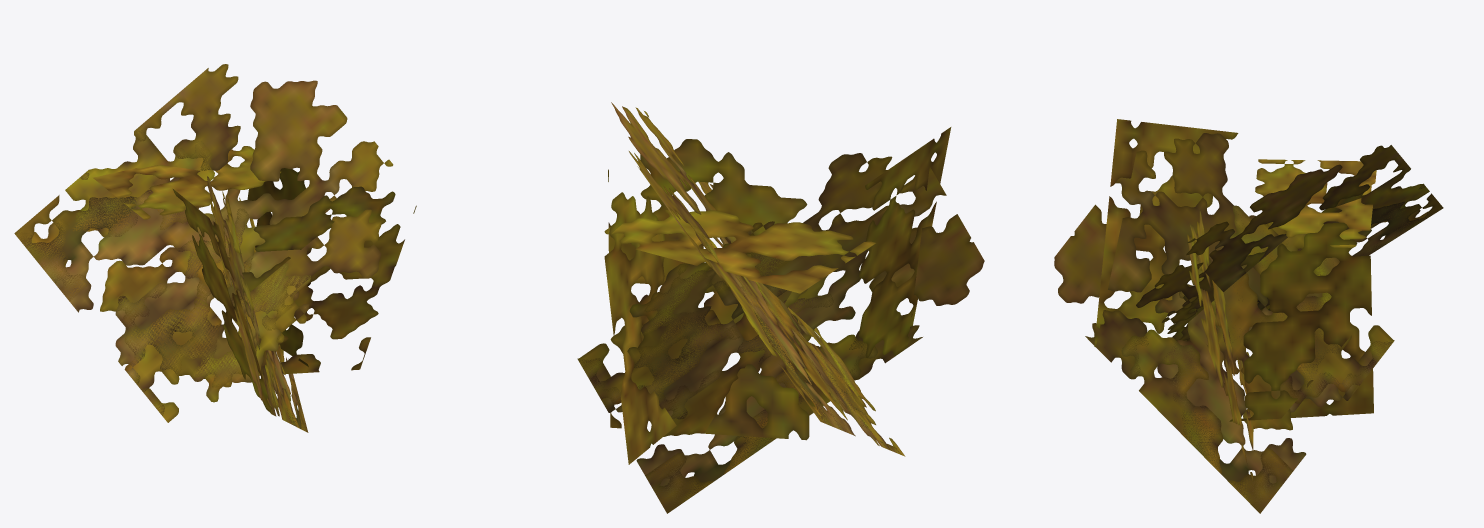
Rendered from maple_leaves_yellowish_vertical_slab_3.obj.
3 views of the same model, side by side, from view 1: azimuth 30°, elevation 25°; view 2: azimuth 150°, elevation 25°; view 3: azimuth 270°, elevation 25° (orthographic). The views are drawn at different scales.
Parts seen in each view (by area): view 1: cube; view 2: cube; view 3: cube.
Boxes of the visible parts, x1,y1,x2,y2 form: cube: (14,64,416,432); cube: (577,102,984,513); cube: (1054,119,1443,513).
Bounding box in the file's own units: 2.25 × 2.85 × 2.69.
